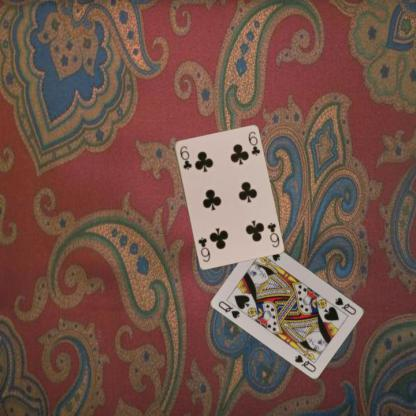6c: (265, 219, 280, 249), (177, 143, 193, 171)
Qs: (216, 298, 242, 320), (332, 295, 358, 316)
